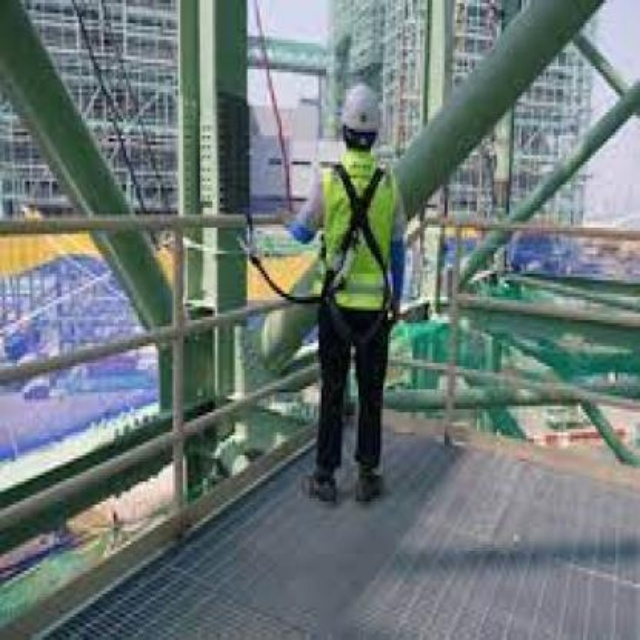Arnes_seguridad: (323, 154, 397, 349)
